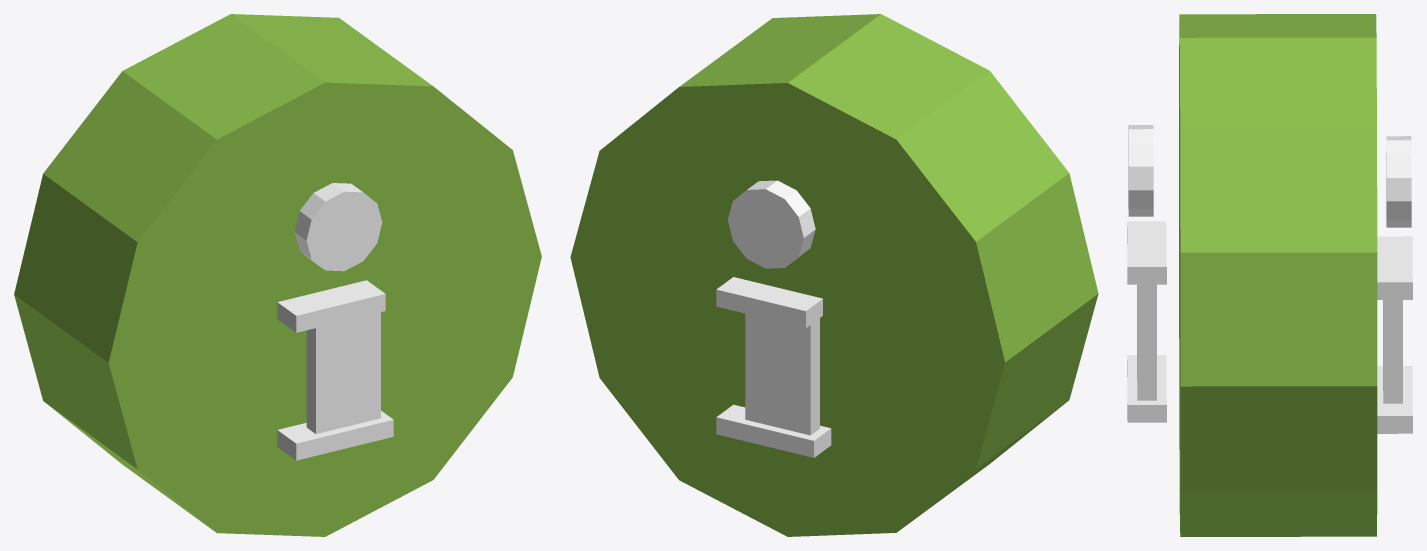
File: info.glb
3 renders of one model, left to right at view 1: azimuth 30°, elevation 25°; view 2: azimuth 150°, elevation 25°; view 3: azimuth 270°, elevation 25°, orthographic. The views are drawn at different scales.
Parts seen in each view (by area): view 1: group1236340163, group1333965752; view 2: group1236340163, group1771391850; view 3: group1236340163, group1333965752, group1771391850.
Part boxes in pixels (bbox=[...]): group1236340163: bbox=[14, 14, 541, 536]; group1333965752: bbox=[277, 183, 393, 460]; group1236340163: bbox=[570, 14, 1098, 536]; group1771391850: bbox=[716, 180, 831, 457]; group1236340163: bbox=[1179, 14, 1377, 536]; group1333965752: bbox=[1127, 125, 1166, 422]; group1771391850: bbox=[1377, 136, 1412, 433].
Size of the model in its own units: 0.4005 by 0.4 by 0.2178.
